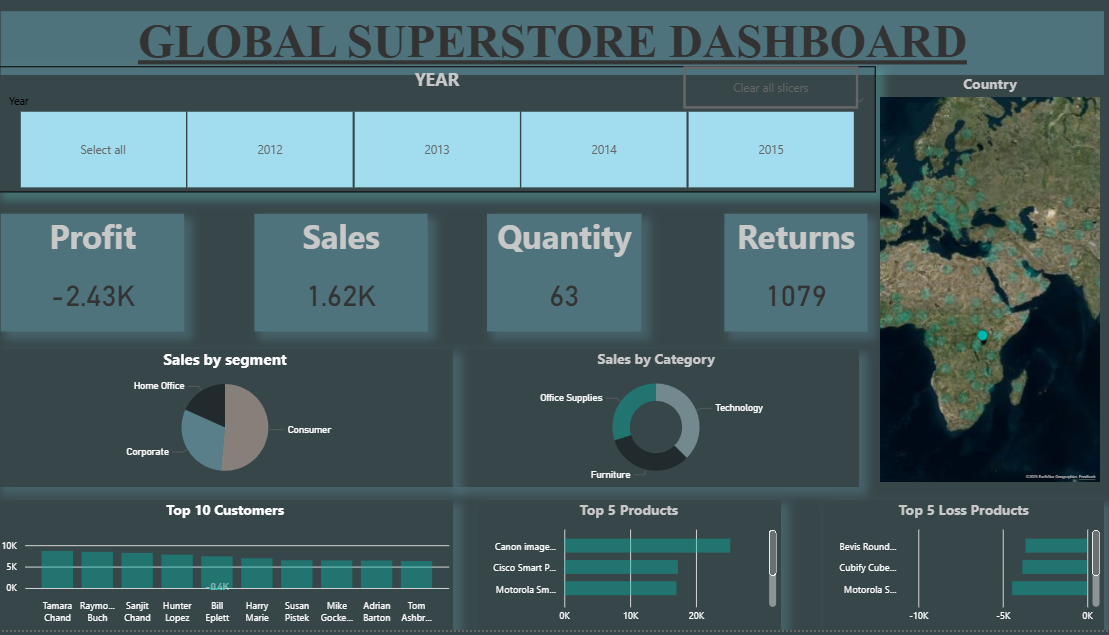

The page's visual inventory and layout, read from the dashboard file:
{"tool":"powerbi","page":{"name":"Page 1","canvas":[1280,720],"ordinal":0},"visuals":[{"type":"textbox","box":[4.1,12.3,1261.1,72.7],"z":0},{"type":"card","title":"          Profit","fields":{"Values":["Orders.Profit"]},"box":[4.1,244.3,209.9,134.5],"z":1000},{"type":"card","title":"Sales","fields":{"Values":["Orders.Sales"]},"box":[294.8,243.8,197.8,134.3],"z":2000},{"type":"card","title":"Quantity","fields":{"Values":["Orders.Quantity"]},"box":[559.8,243.8,176.6,134.3],"z":3000},{"type":"card","title":"Returns","fields":{"Values":["Returns.Returned"]},"box":[831.6,244.3,163.3,134.5],"z":4000},{"type":"slicer","title":"YEAR","fields":{"Values":["Orders.Order Date.Variation.Date Hierarchy.Year"]},"box":[0,75.9,1003.9,144.3],"z":5000},{"type":"pieChart","title":"Sales by segment","fields":{"Y":["Orders.Sales"],"Category":["Orders.Segment"]},"box":[0,397.9,521.4,157.8],"z":6000},{"type":"donutChart","title":" Sales by Category","fields":{"Y":["Orders.Sales"],"Category":["Orders.Category"]},"box":[521.4,397.9,463.8,157.8],"z":7000},{"type":"columnChart","title":"Top 10 Customers","fields":{"Category":["Orders.Customer Name"],"Y":["Orders.Profit"]},"box":[0,570.8,521.4,149.6],"z":8000},{"type":"actionButton","box":[784.9,75.9,200.3,48.5],"z":9000},{"type":"clusteredBarChart","title":"Top 5 Products","fields":{"Y":["Orders.Profit"],"Category":["Orders.Product Name"]},"box":[548.6,571,347.1,149.3],"z":10000},{"type":"clusteredBarChart","title":"Top 5 Loss Products","fields":{"Y":["Orders.Profit"],"Category":["Orders.Product Name"]},"box":[944.2,571,320.9,149.3],"z":11000},{"type":"azureMap","fields":{"Category":["Orders.Country"]},"box":[1003.9,84.6,261.2,471.5],"z":12000}]}

Visuals, with their boxes in screenshot pixels (x1, y1, x2, y2), scaled from the page's 1280x720 canvas onto the 1109x635 screenshot:
textbox: bbox(4, 11, 1096, 75)
"          Profit" card: bbox(4, 215, 185, 334)
"Sales" card: bbox(255, 215, 427, 333)
"Quantity" card: bbox(485, 215, 638, 333)
"Returns" card: bbox(721, 215, 862, 334)
"YEAR" slicer: bbox(0, 67, 870, 194)
"Sales by segment" pieChart: bbox(0, 351, 452, 490)
" Sales by Category" donutChart: bbox(452, 351, 854, 490)
"Top 10 Customers" columnChart: bbox(0, 503, 452, 634)
actionButton: bbox(680, 67, 854, 110)
"Top 5 Products" clusteredBarChart: bbox(475, 504, 776, 634)
"Top 5 Loss Products" clusteredBarChart: bbox(818, 504, 1096, 634)
azureMap - Orders.Country: bbox(870, 75, 1096, 490)
